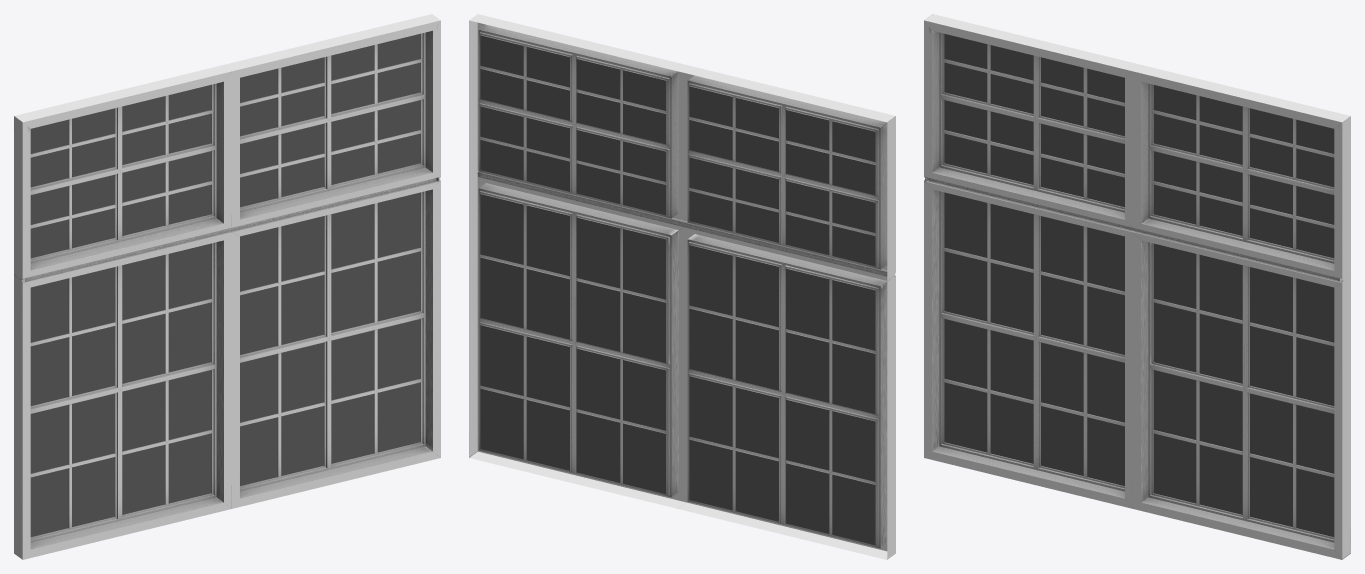
The model's file is window_big.glb.
3 renders of one model, left to right at view 1: azimuth 30°, elevation 25°; view 2: azimuth 150°, elevation 25°; view 3: azimuth 330°, elevation 25°, orthographic.
Visible parts, largest first — view 1: Plane; view 2: Plane; view 3: Plane.
Boxes of the visible parts, x1,y1,x2,y2 form: Plane: (14, 14, 440, 559); Plane: (469, 14, 895, 559); Plane: (924, 14, 1350, 559).
Size of the model in its own units: 2 by 2 by 0.0744.
2 materials, 1 textured.
